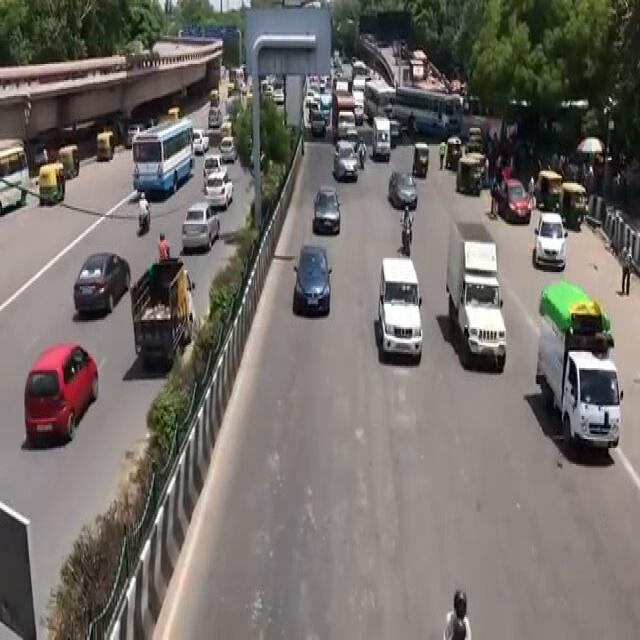three_wheeler: (559, 178, 587, 236), (455, 151, 482, 201), (409, 137, 433, 179)
